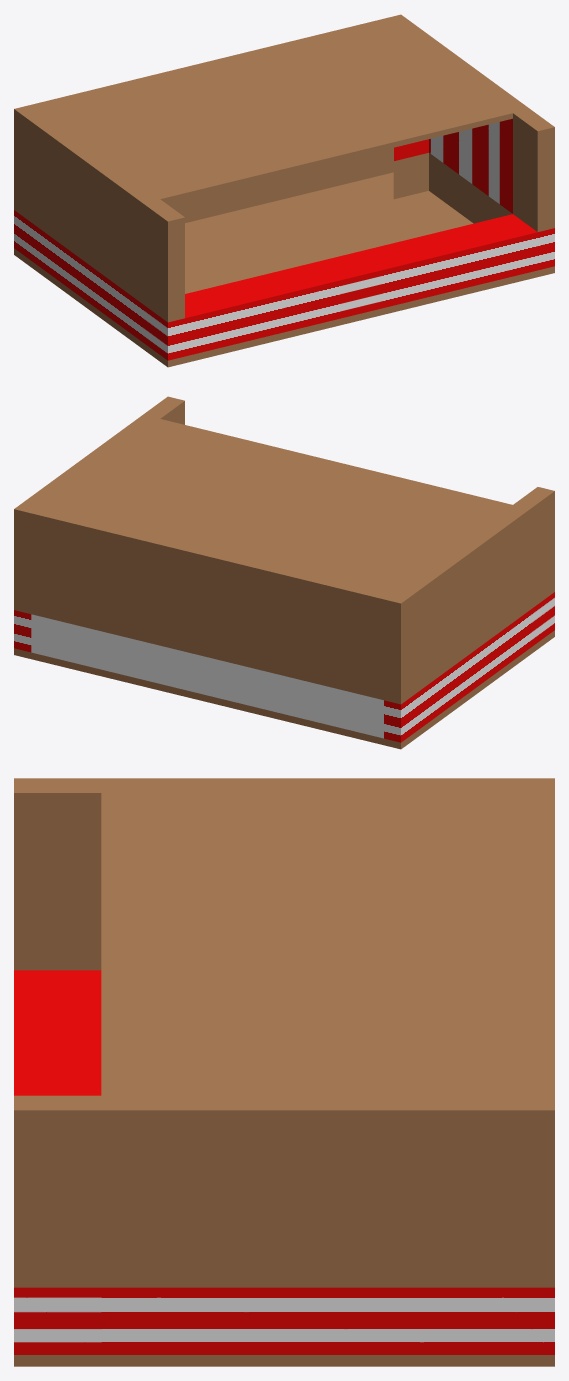
The model's file is stand.gltf.
The picture shows the model from 3 angles, top to bottom: view 1: azimuth 30°, elevation 25°; view 2: azimuth 150°, elevation 25°; view 3: azimuth 270°, elevation 25°; orthographic projection. The views are drawn at different scales.
Visible parts, largest first — view 1: Cube.001, Cube.004, Cube.002, Cube.003; view 2: Cube.001, Cube.004; view 3: Cube.001, Cube.004.
Boxes of the visible parts, x1=… form: Cube.001: x1=14, y1=14, x2=554, y2=367; Cube.004: x1=14, y1=210, x2=554, y2=360; Cube.002: x1=166, y1=147, x2=512, y2=223; Cube.003: x1=394, y1=118, x2=512, y2=213; Cube.001: x1=14, y1=396, x2=554, y2=749; Cube.004: x1=14, y1=592, x2=554, y2=742; Cube.001: x1=14, y1=778, x2=554, y2=1366; Cube.004: x1=14, y1=970, x2=554, y2=1354.
Bounding box in the file's own units: 18 × 6.48 × 12.4.
Materials: 2 (1 with a texture image).
